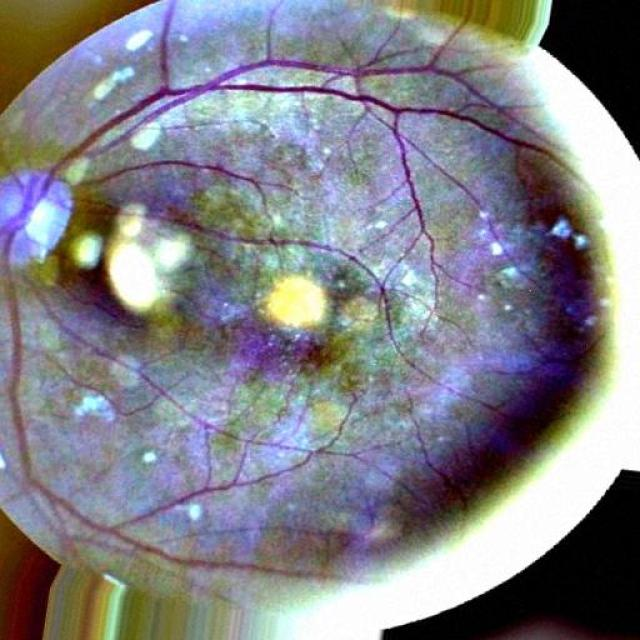Macula: (244, 306, 337, 384)
Nerves: (0, 238, 317, 586), (55, 198, 510, 416), (38, 56, 512, 185)
Optic Disk: (0, 164, 74, 282)
